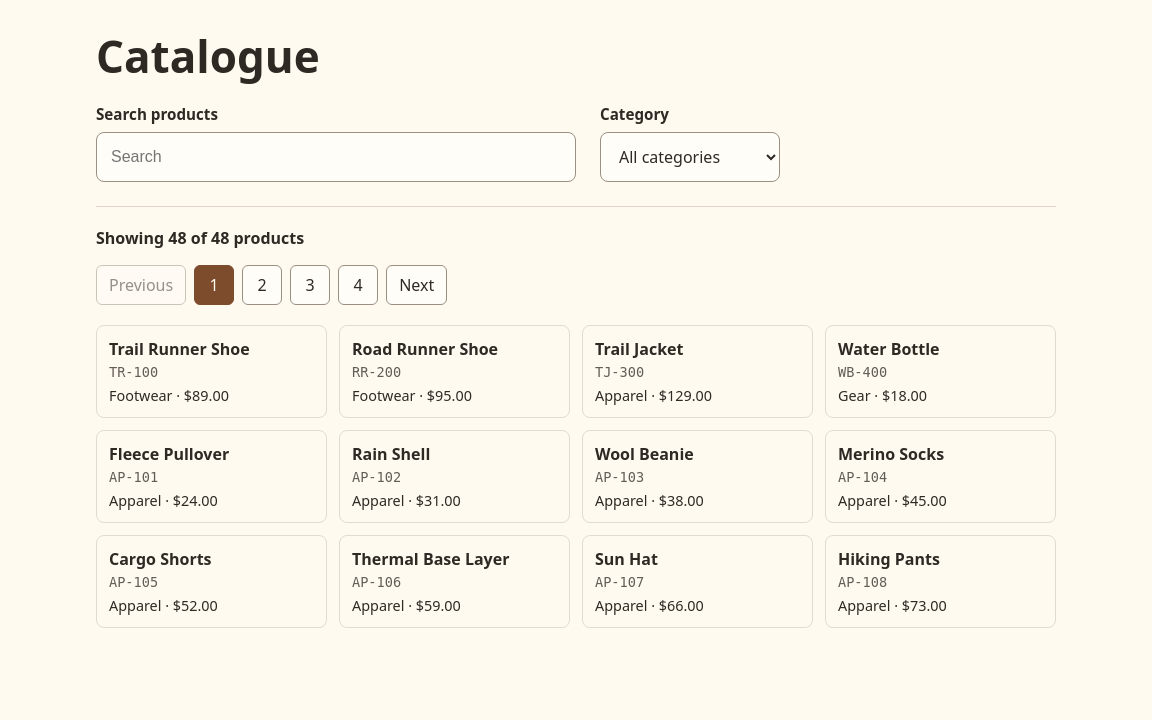
Catalog page › filters by category and combines it with search
The width and height of the screenshot is (1152, 720).
Select "Apparel" in the dropdown labelled "Category" at (690, 157), box [600,132,780,182]
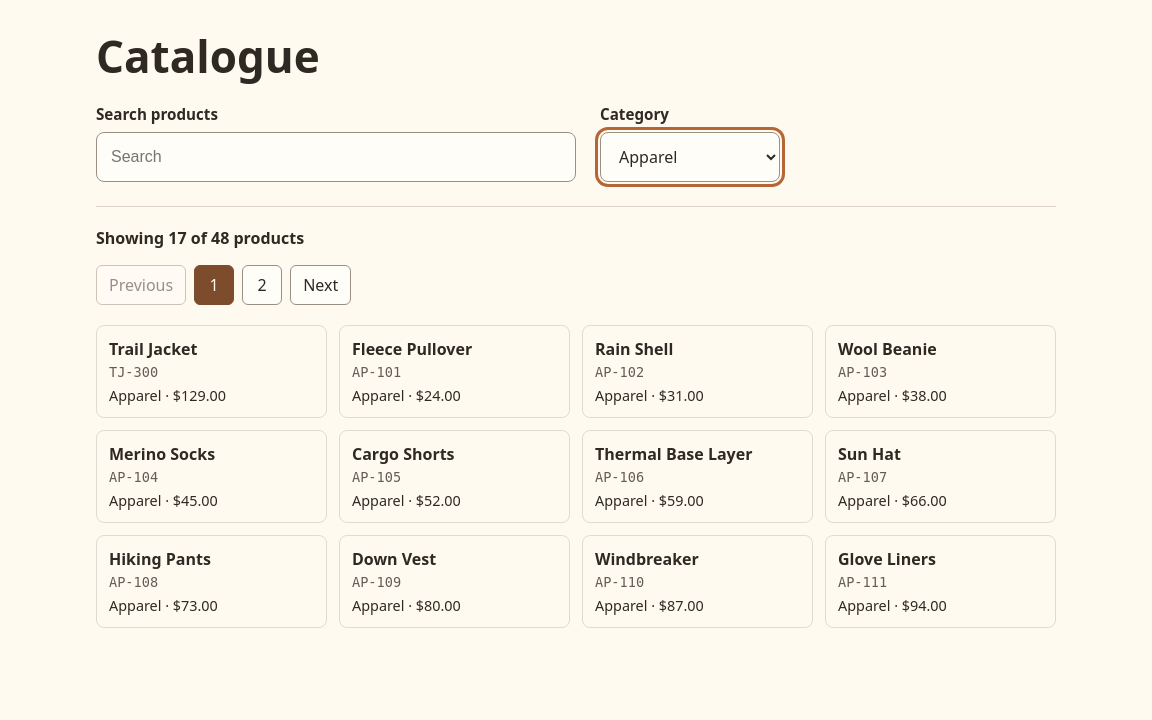
expect the text "Showing 17 of 48 products" is shown: met, box [96,227,304,249]
Type "trail" into the field labelled "Search products".
click(336, 157); type("trail")  # box [96,132,576,182]
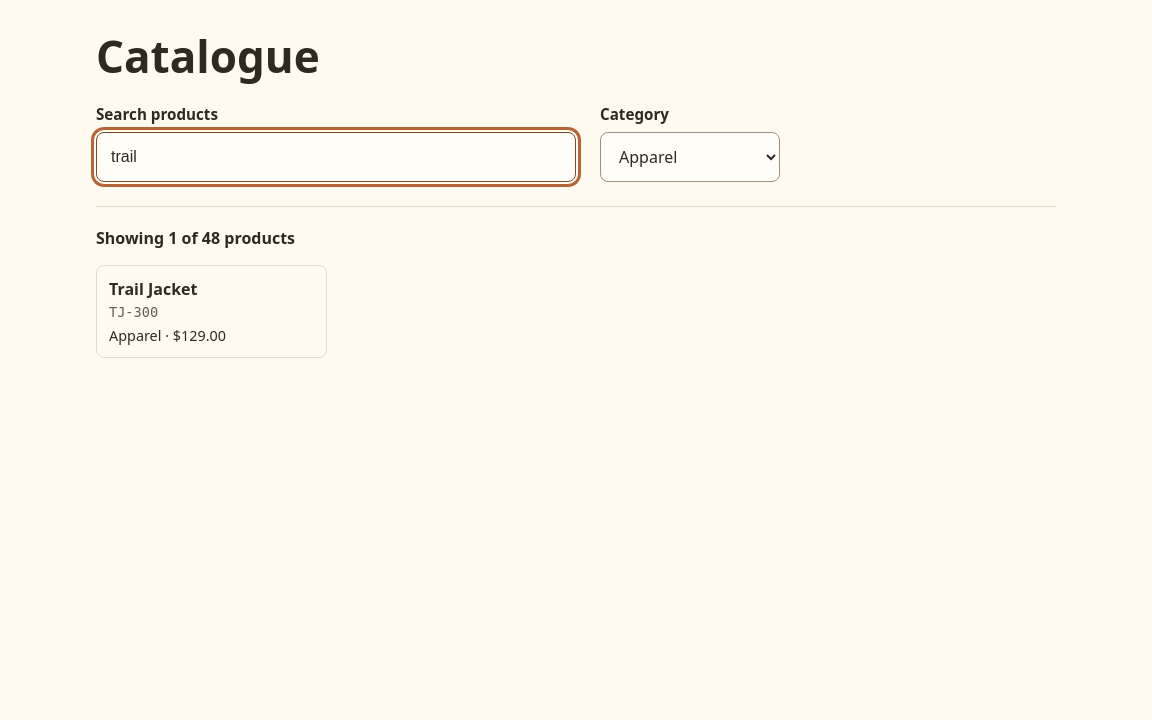
expect the heading "Trail Jacket" is shown: met, box [109,278,198,300]
expect the text "Showing 1 of 48 products" is shown: met, box [96,227,295,249]
